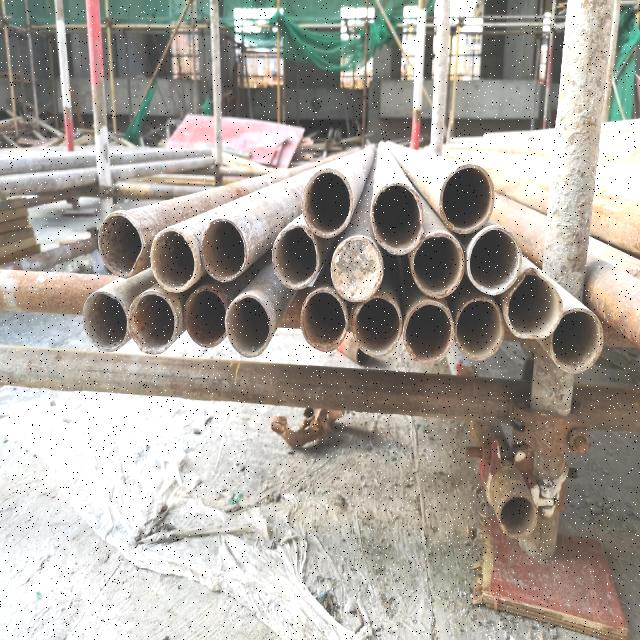pipe: (505, 266, 563, 340), (368, 182, 426, 254), (400, 296, 456, 368), (550, 304, 604, 378), (411, 229, 468, 299), (439, 166, 495, 236), (302, 166, 354, 238), (95, 206, 147, 278), (466, 226, 522, 292), (329, 232, 385, 298), (351, 291, 404, 358), (78, 285, 130, 351), (149, 226, 197, 296), (198, 215, 248, 282), (271, 222, 321, 288), (455, 296, 505, 362), (298, 286, 348, 352), (224, 290, 274, 356), (127, 288, 177, 352), (185, 282, 229, 348), (496, 490, 542, 540)
